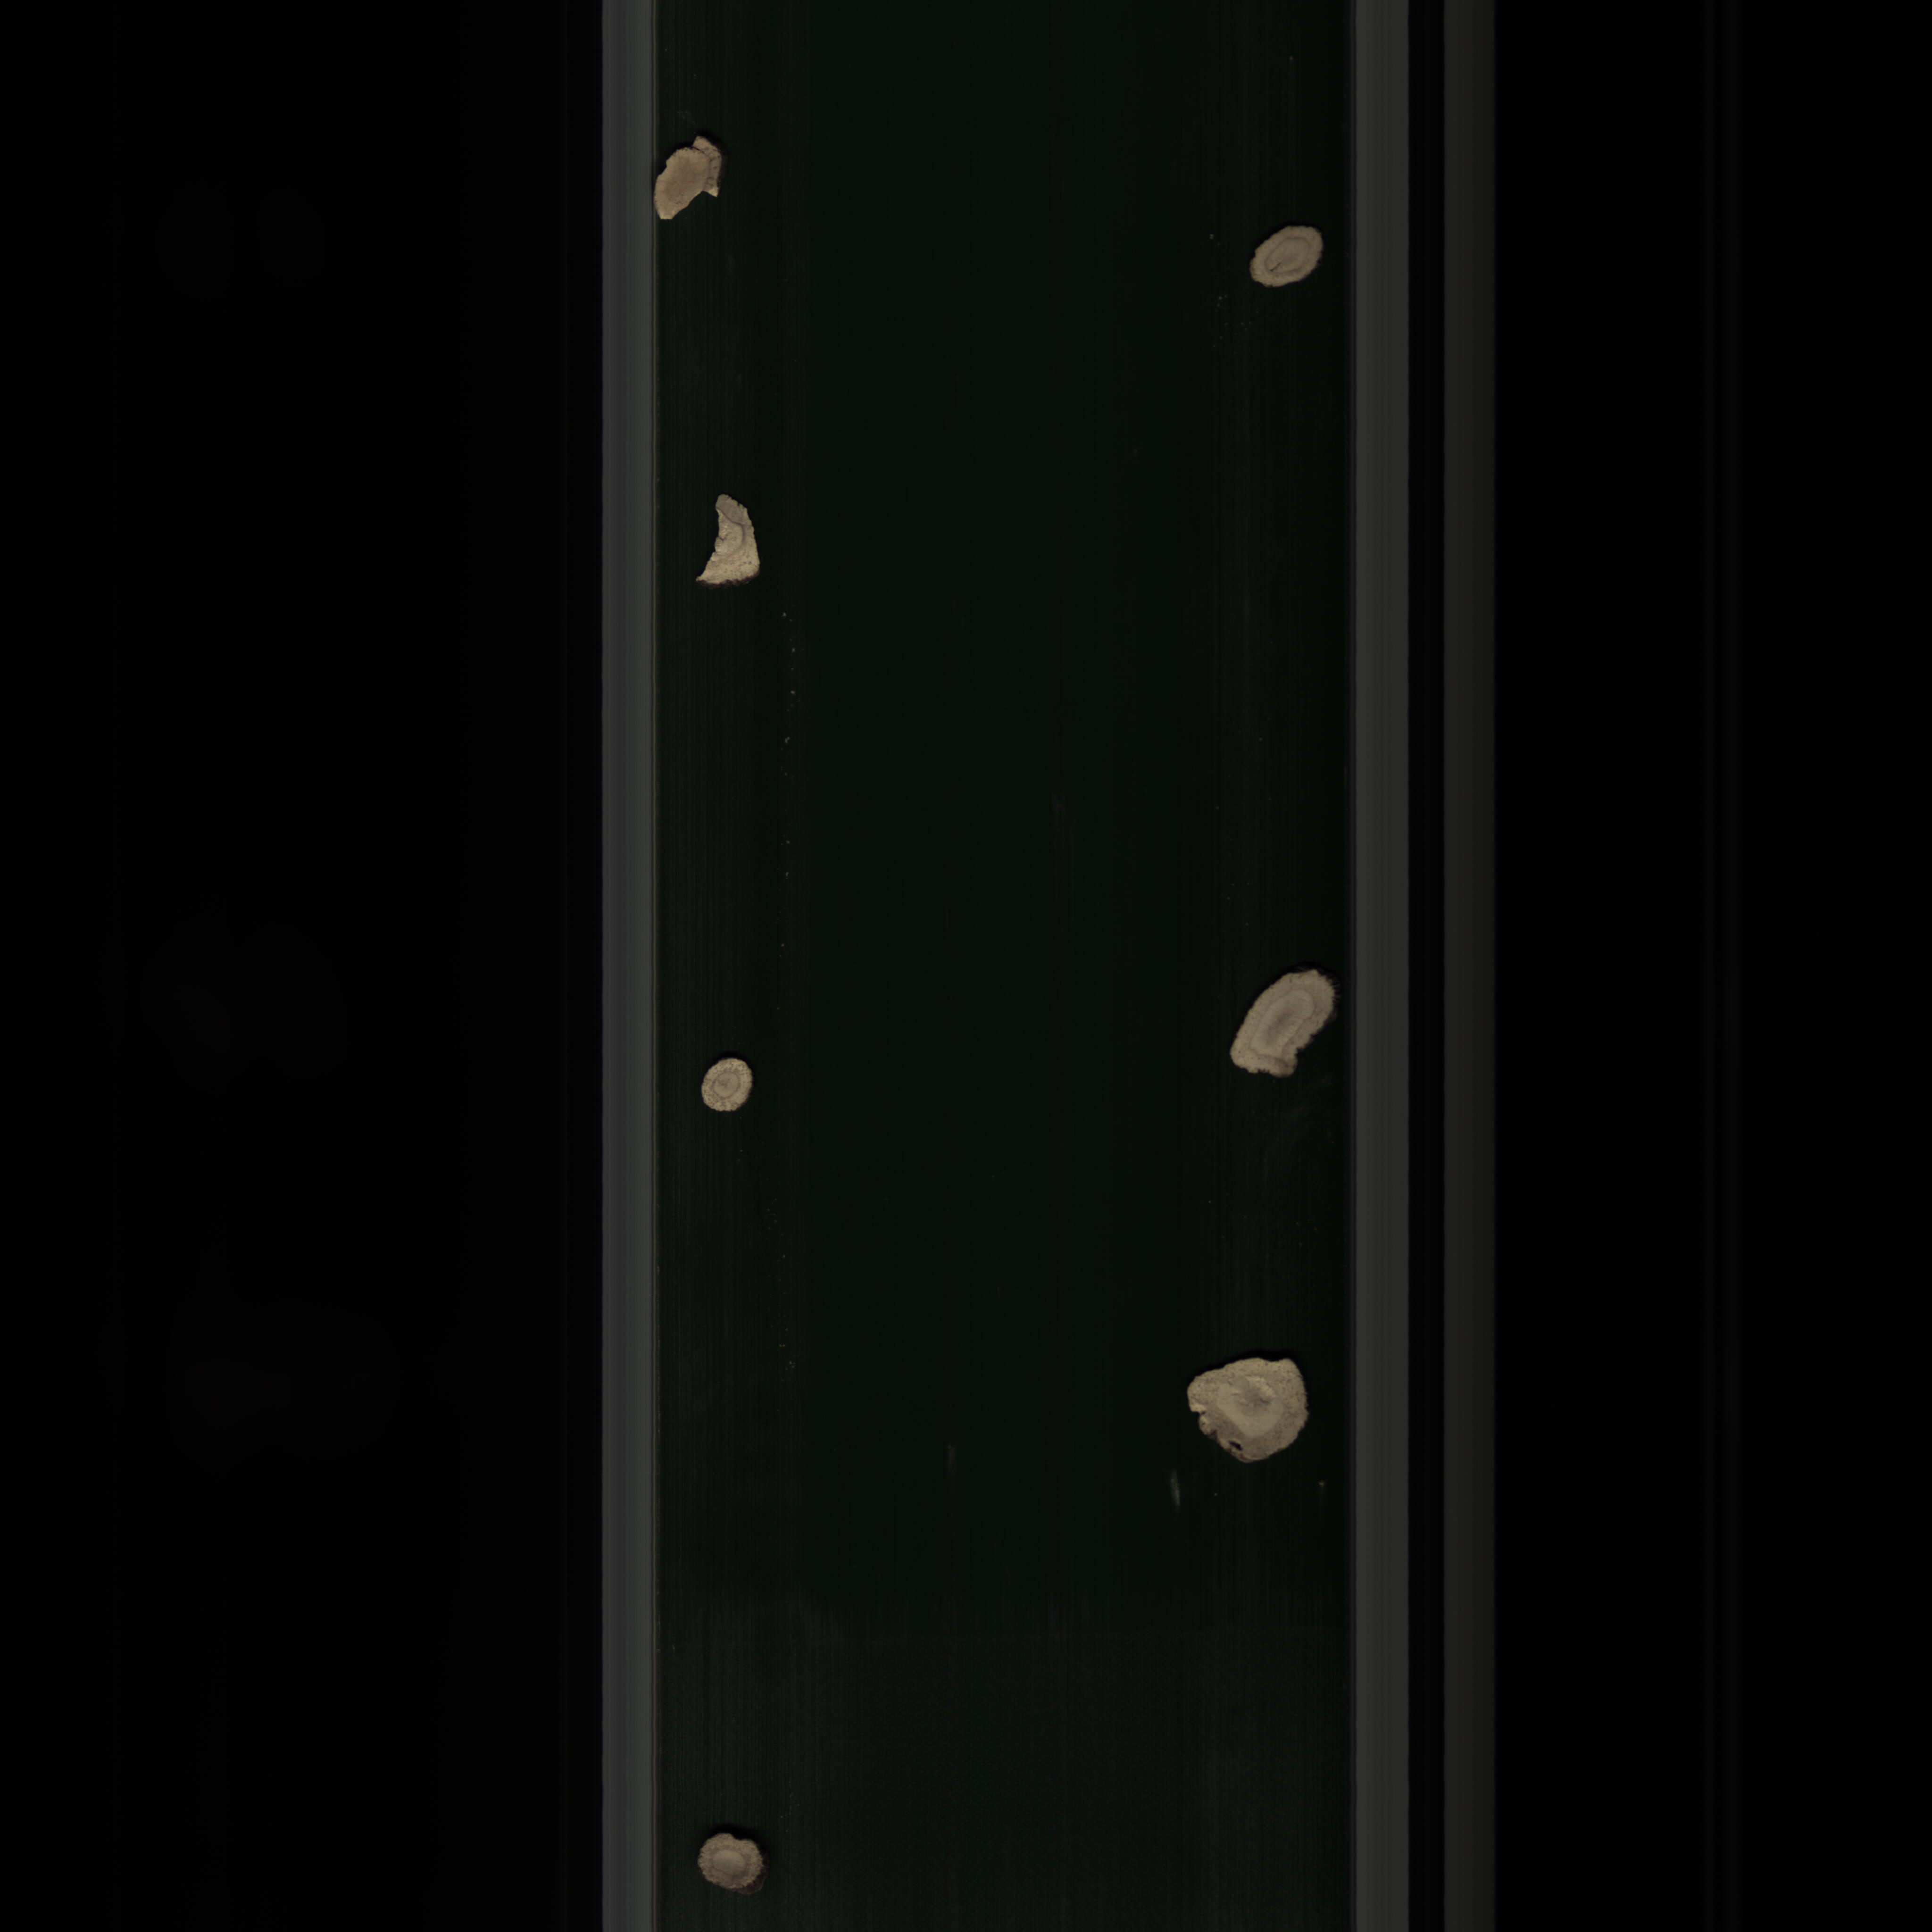debris: (686, 478, 770, 589), (651, 124, 729, 226)
distortion: (1175, 1355, 1315, 1467), (1215, 954, 1345, 1074)
